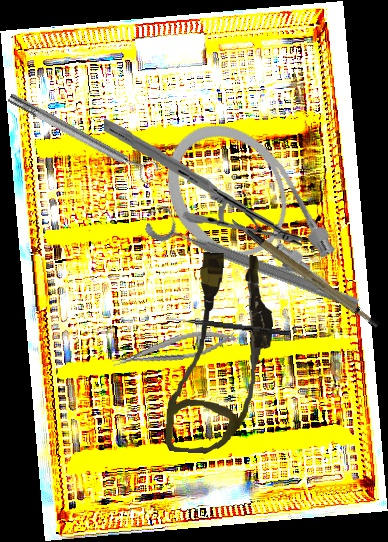Cannula: (139, 99, 368, 343), (163, 250, 278, 458)
Fixation Ring: (143, 200, 366, 316), (4, 84, 161, 188)
Hook Surgical: (166, 316, 290, 336)
Needle Holder: (99, 117, 307, 250), (109, 325, 238, 372)
Scalpel Handle: (230, 197, 382, 346)
